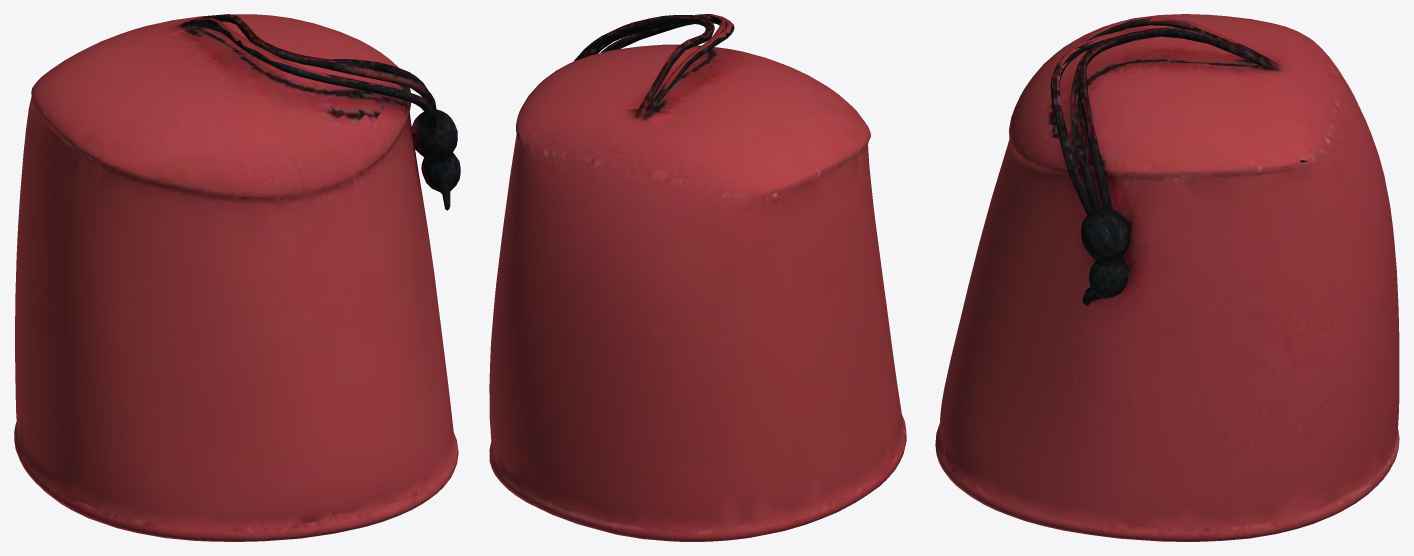
Rendered from fez.glb.
3 renders of one model, left to right at view 1: azimuth 30°, elevation 25°; view 2: azimuth 150°, elevation 25°; view 3: azimuth 270°, elevation 25°, orthographic. The views are drawn at different scales.
Parts seen in each view (by area): view 1: node_0; view 2: node_0; view 3: node_0.
Part boxes in pixels (x1,y1,x2,y2): node_0: (14,14,460,541); node_0: (489,14,906,541); node_0: (935,14,1399,541).
Size of the model in its own units: 0.46 by 0.5046 by 0.4891.
Materials: 1 (1 with a texture image).
